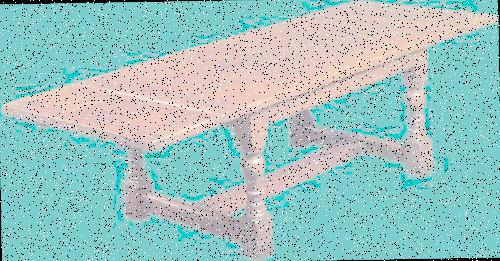Mesa: (1, 0, 499, 260)
